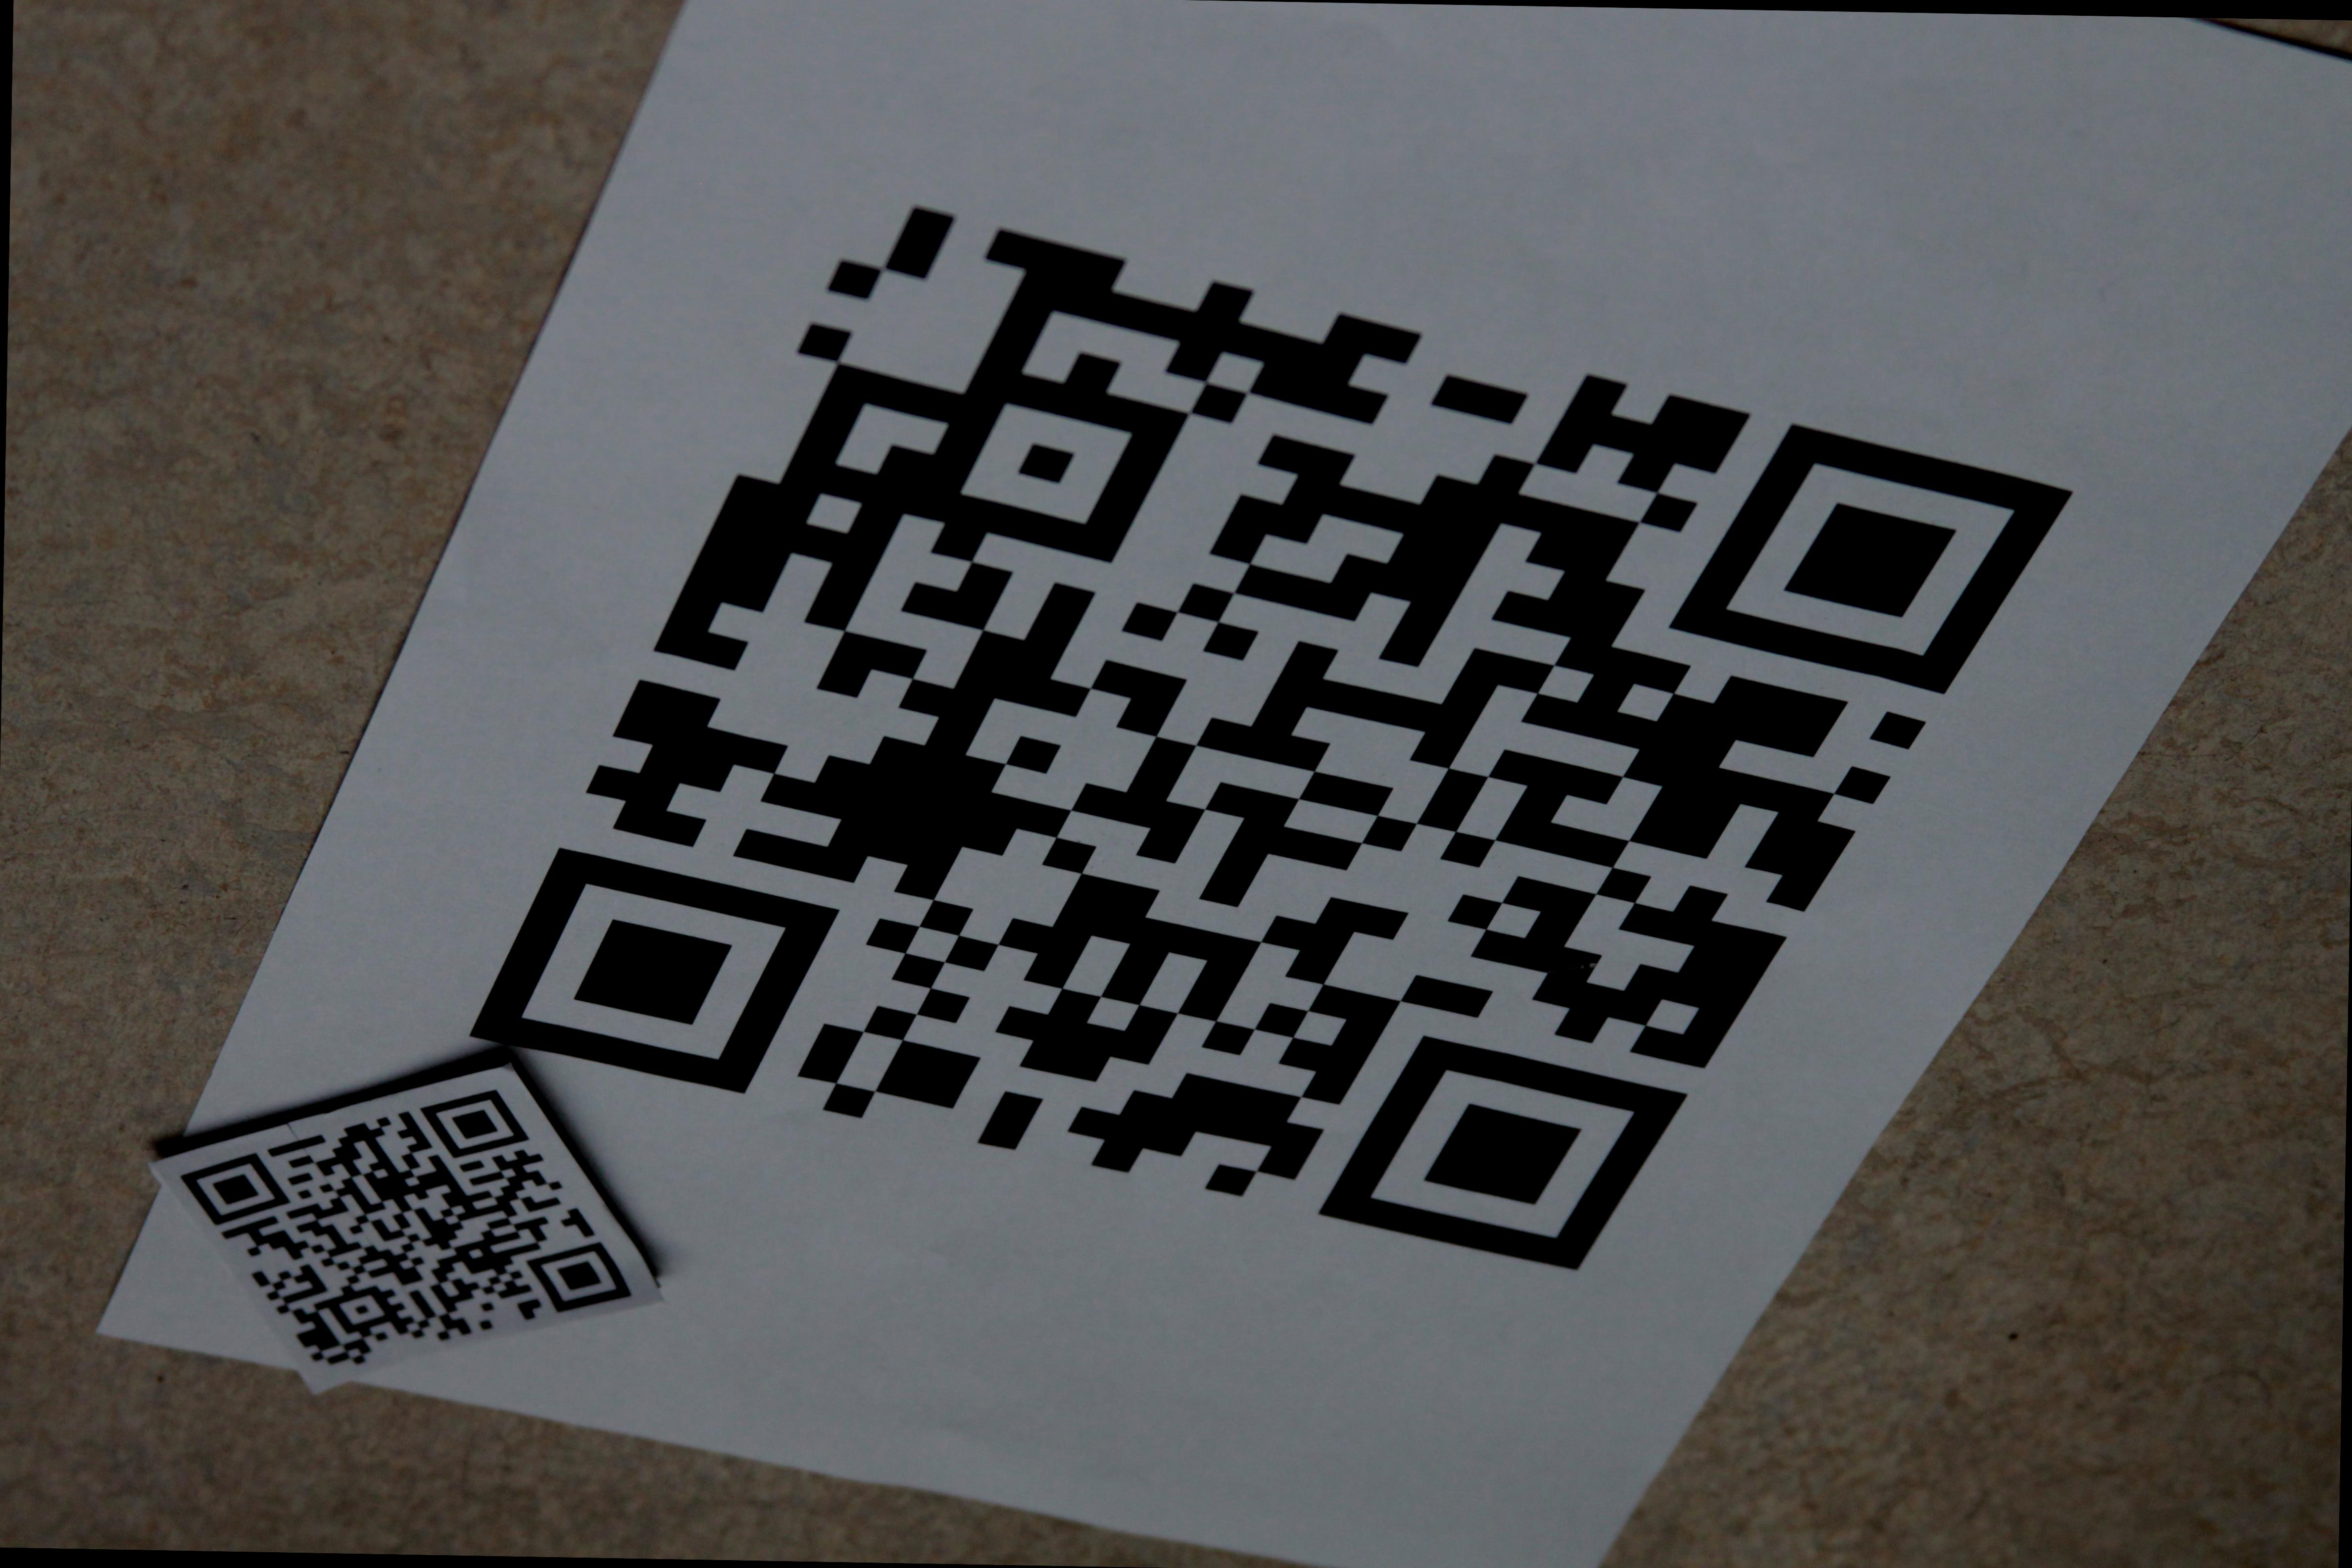QR: (481, 149, 2079, 1267), (150, 1008, 668, 1407)
